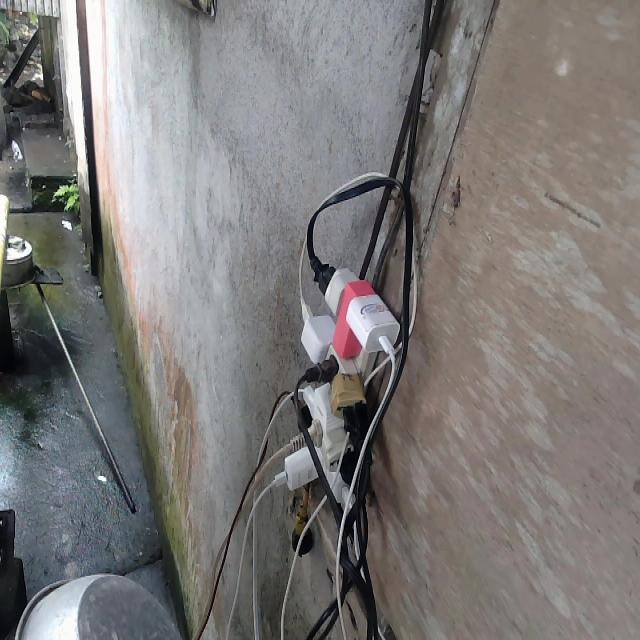-: (270, 262, 401, 518)
